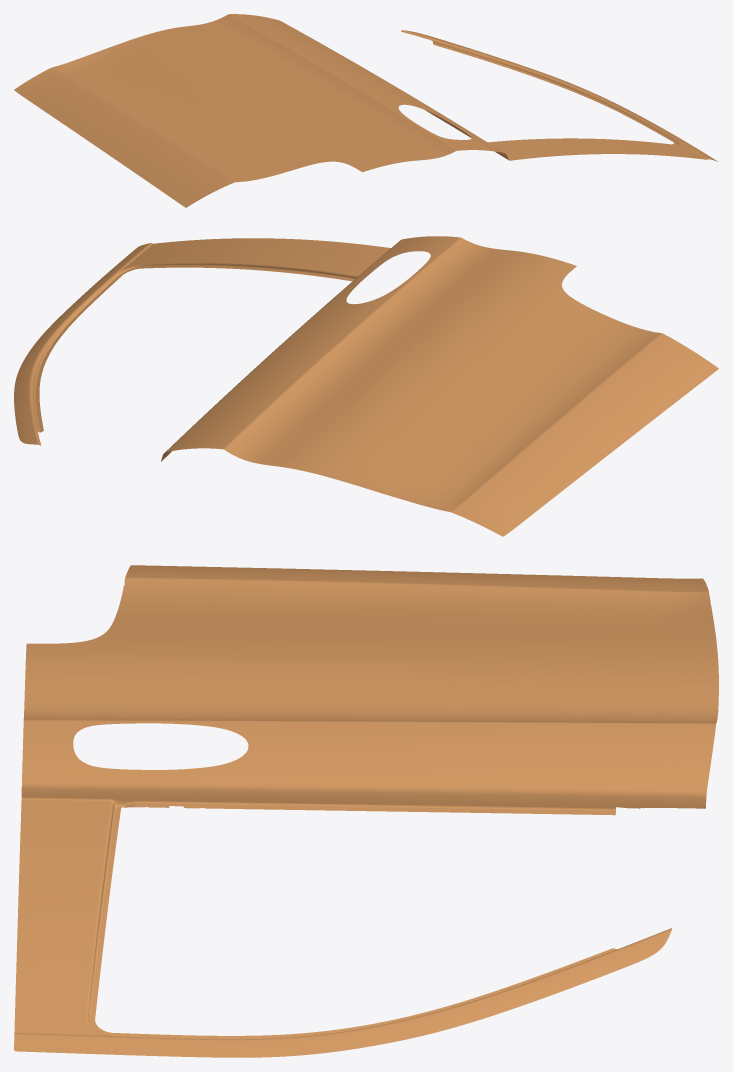
The model's file is car_door.dae.
3 renders of one model, top to bottom at view 1: azimuth 30°, elevation 25°; view 2: azimuth 150°, elevation 25°; view 3: azimuth 270°, elevation 25°, orthographic. The views are drawn at different scales.
Parts seen in each view (by area): view 1: Puerta_Vito; view 2: Puerta_Vito; view 3: Puerta_Vito.
Part boxes in pixels (box(x1,y1,x2,y2)): Puerta_Vito: box(14, 14, 718, 207); Puerta_Vito: box(14, 236, 718, 536); Puerta_Vito: box(14, 565, 718, 1057).
Bounding box in the file's own units: 1.44 × 1.07 × 0.2248.
